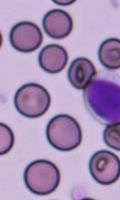L: (83, 70, 120, 125)
